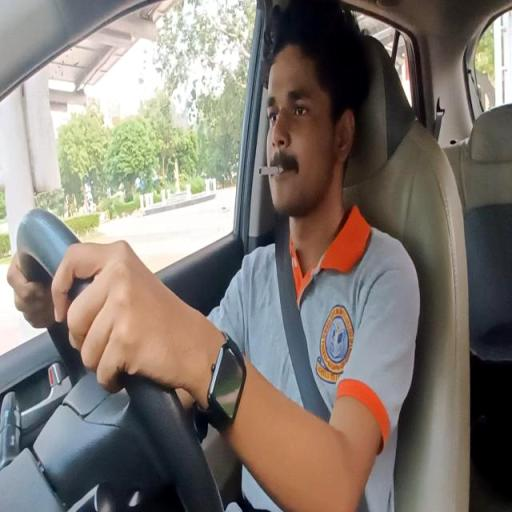Smoking: (83, 37, 425, 488)
